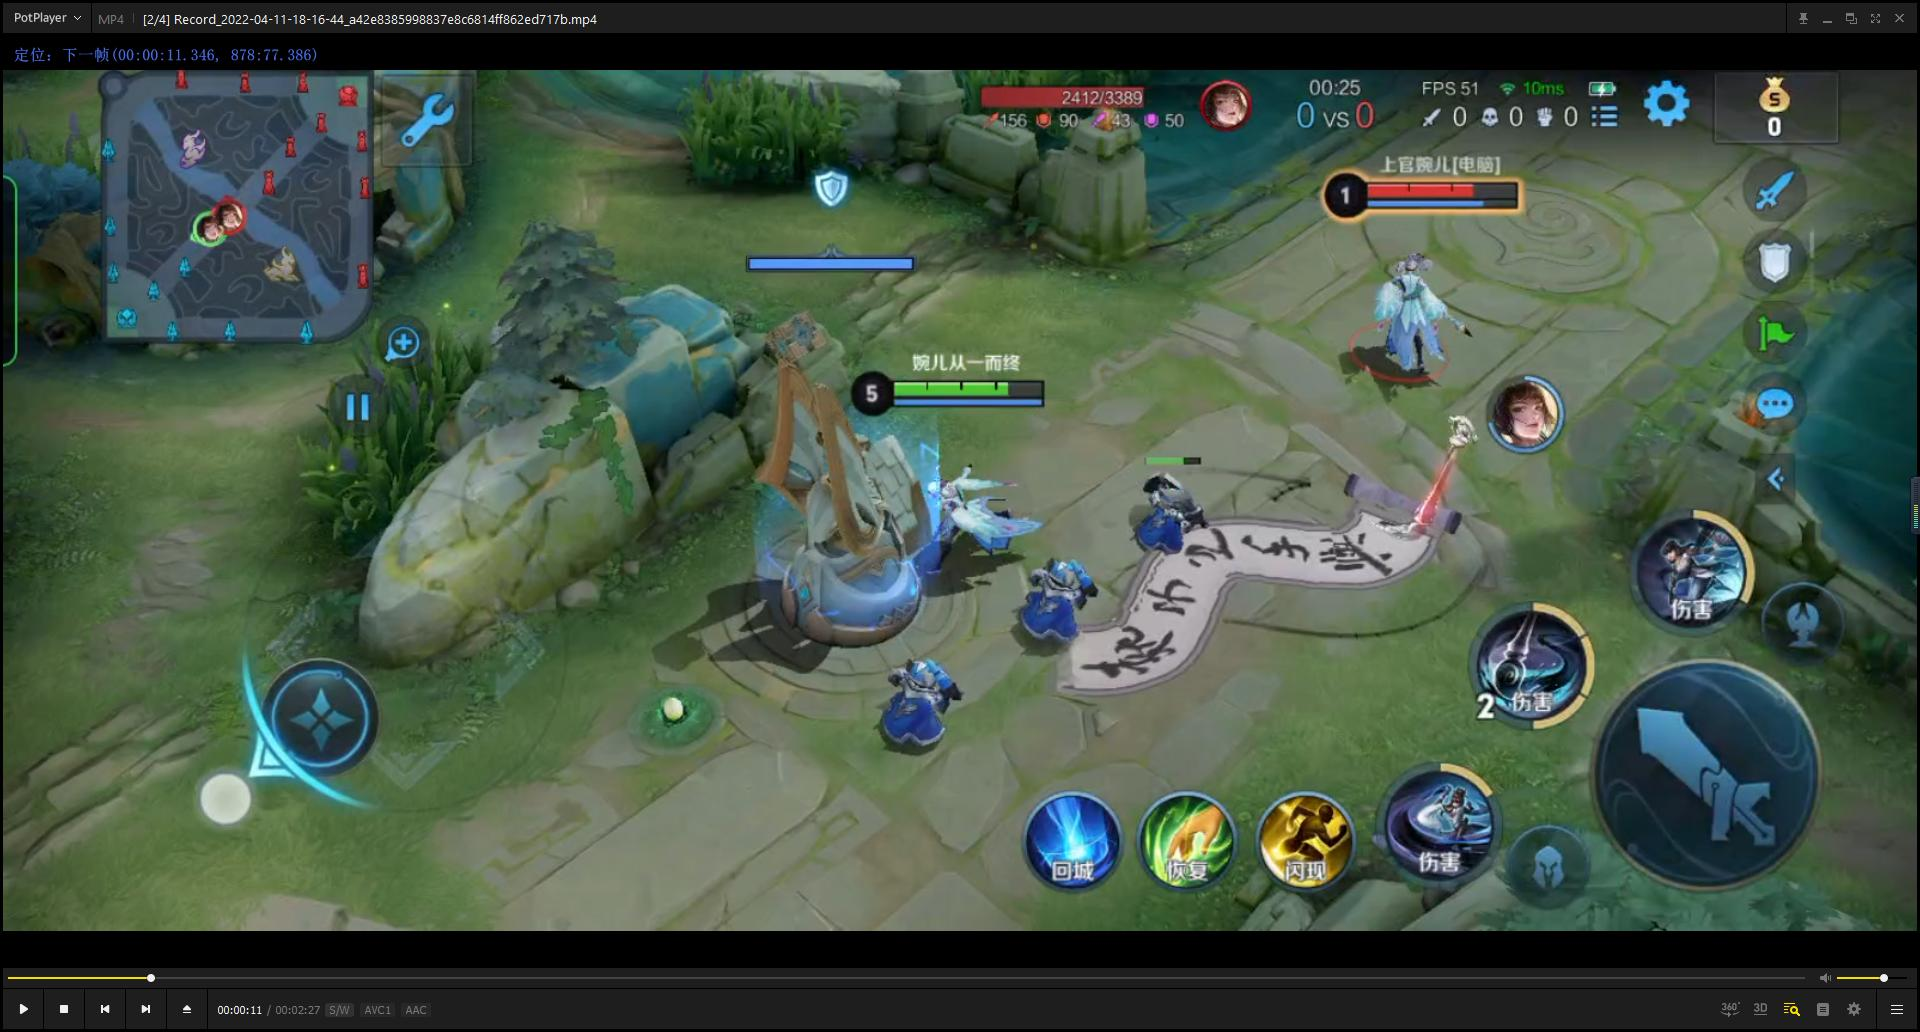Hero: (1335, 240, 1478, 384), (910, 436, 1042, 567)
Solider: (1097, 444, 1269, 582), (860, 652, 994, 773), (997, 554, 1137, 666)
Tower: (751, 239, 956, 686)
